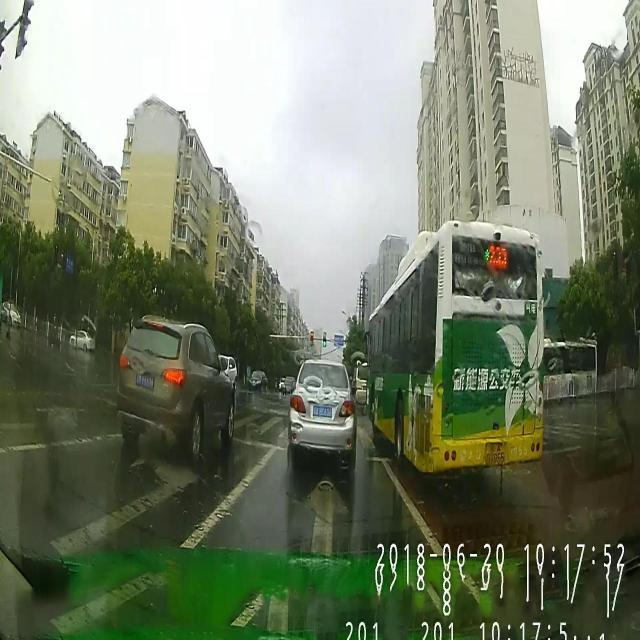car: (115, 313, 236, 462), (287, 358, 358, 473)
